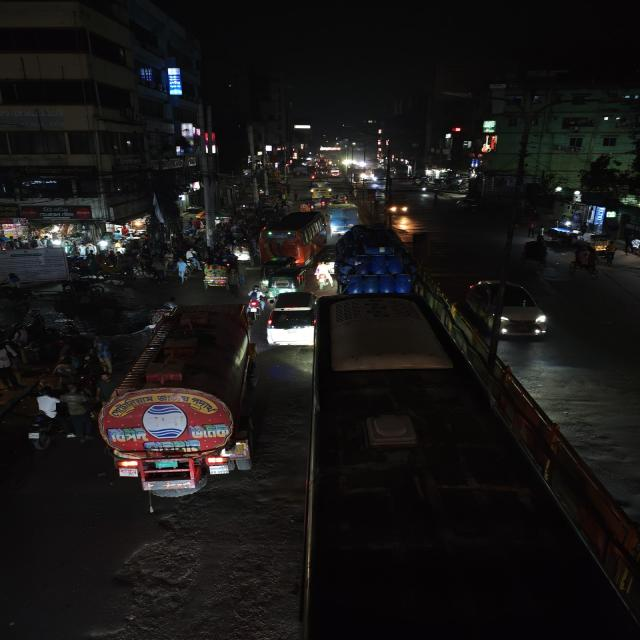bicycle: (567, 245, 601, 277)
bus: (303, 290, 635, 640), (263, 211, 328, 265), (309, 181, 333, 200)
car: (462, 276, 552, 343), (265, 290, 320, 350), (454, 199, 478, 212)
cng: (264, 264, 306, 295)
motorcycle: (20, 393, 65, 453), (244, 285, 265, 317)
pedestrian: (174, 257, 191, 283), (524, 220, 536, 238), (433, 193, 442, 207), (293, 188, 299, 201)
rickshaw: (195, 255, 239, 291), (517, 239, 553, 273), (588, 234, 618, 264)
truck: (93, 302, 264, 503), (327, 197, 363, 231), (387, 195, 412, 219)
